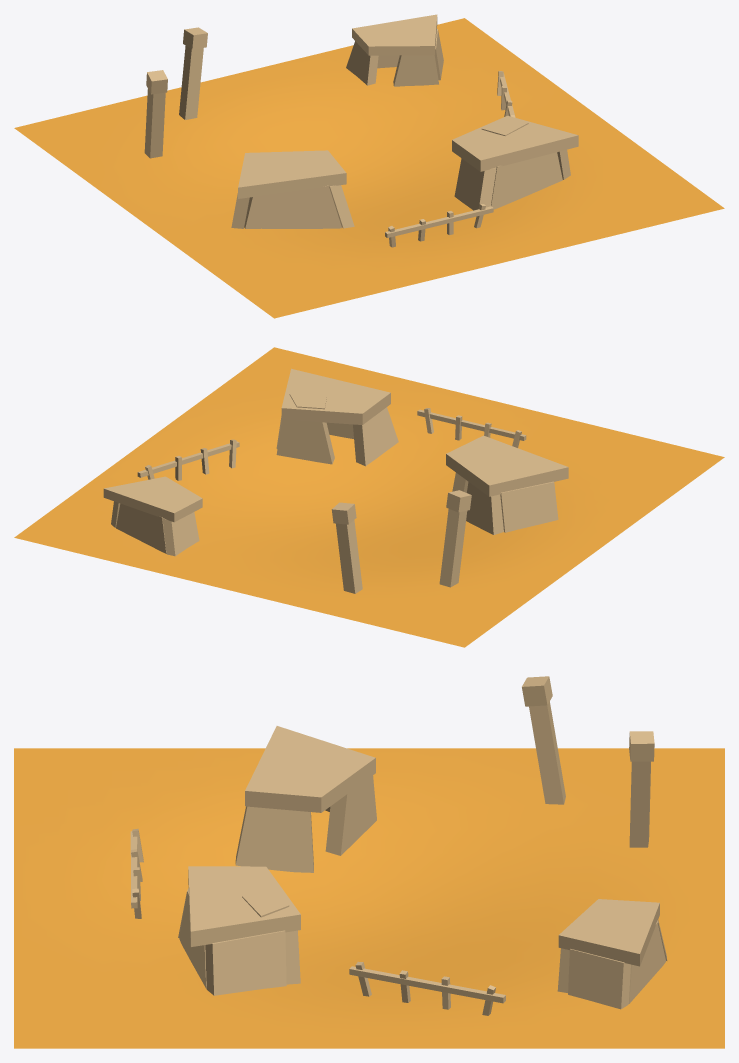
The model's file is village.fbx.
The picture shows the model from 3 angles, top to bottom: view 1: azimuth 30°, elevation 25°; view 2: azimuth 150°, elevation 25°; view 3: azimuth 270°, elevation 25°; orthographic projection. The views are drawn at different scales.
Visible parts, largest first — view 1: Cube; view 2: Cube; view 3: Cube.
Part boxes in pixels (x1,y1,x2,y2): Cube: (14,14,724,318); Cube: (14,347,724,647); Cube: (14,676,724,1048).
Bounding box in the file's own units: 4 × 0.8639 × 4.
